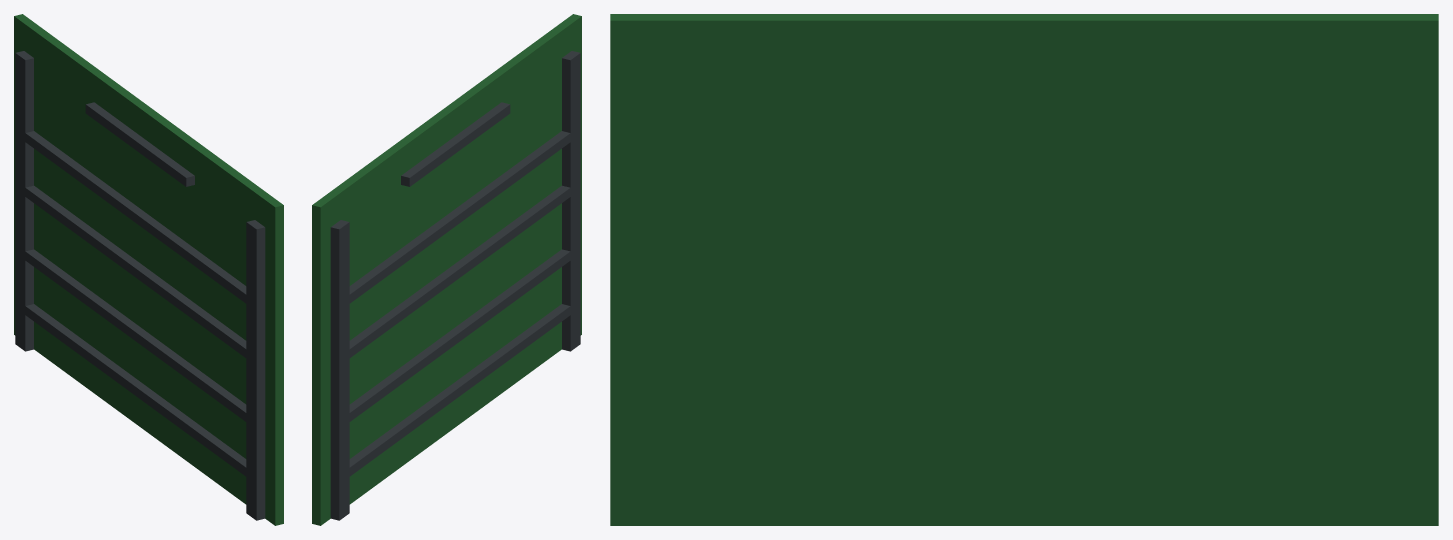
The model's file is livestock_trailer_ramp.glb.
3 views of the same model, side by side, from view 1: azimuth 30°, elevation 25°; view 2: azimuth 150°, elevation 25°; view 3: azimuth 270°, elevation 25° (orthographic). The views are drawn at different scales.
Parts seen in each view (by area): view 1: body:compound; view 2: body:compound; view 3: body:compound.
Part boxes in pixels (bbox=[...]): body:compound: bbox=[14, 14, 283, 525]; body:compound: bbox=[312, 14, 581, 525]; body:compound: bbox=[610, 14, 1438, 525].
Size of the model in its own units: 0.0625 by 1.09 by 1.62.
